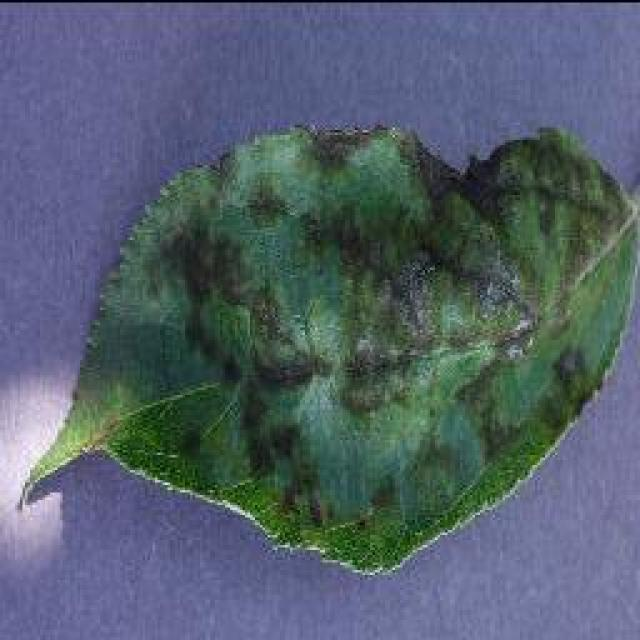apple scab disease: (18, 118, 638, 572)
